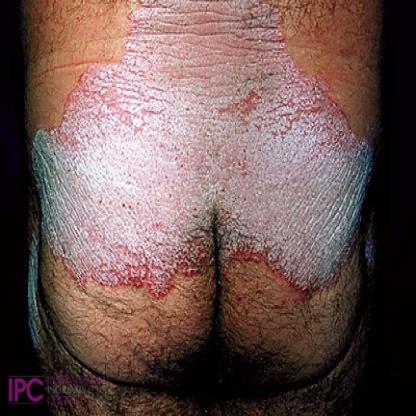Psoriasis: (32, 0, 380, 290)
